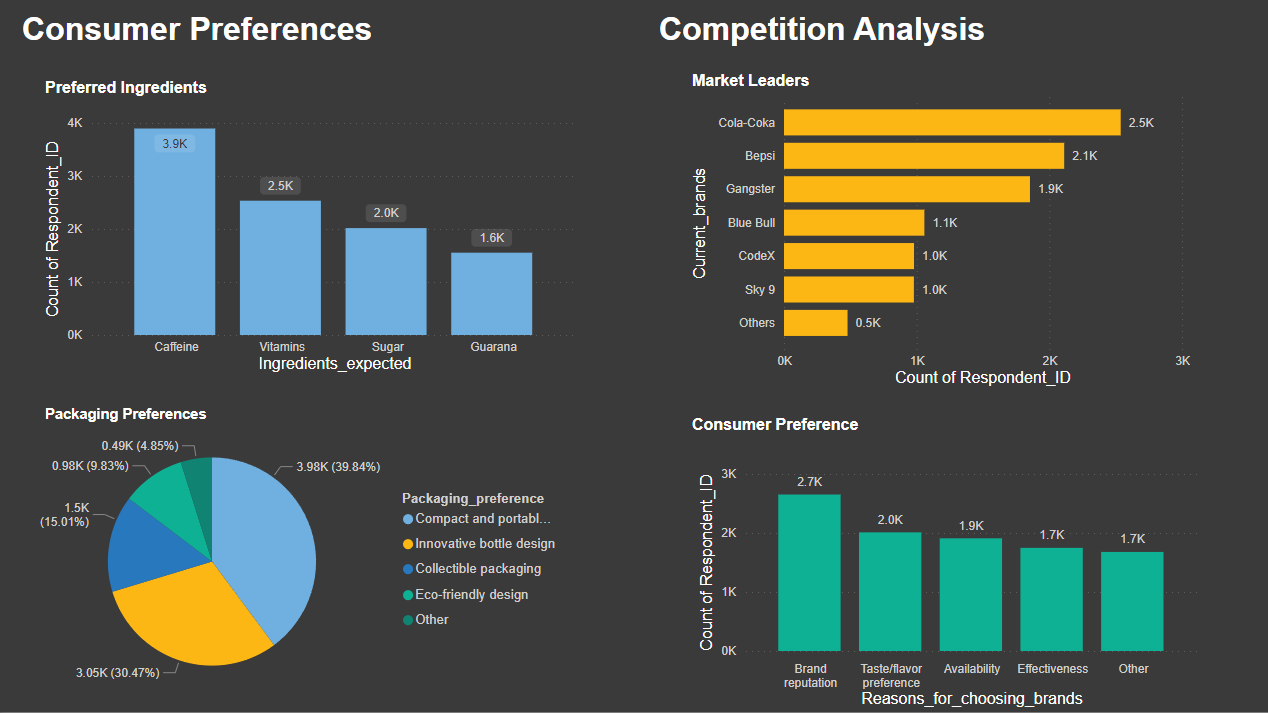

The page's visual inventory and layout, read from the dashboard file:
{"tool":"powerbi","page":{"name":"Consumer & Competition Analysis ","canvas":[1280,720],"ordinal":1},"visuals":[{"type":"columnChart","fields":{"Y":["CountNonNull(fact_survey_responses.Respondent_ID)"],"Category":["fact_survey_responses.Ingredients_expected"]},"box":[44,117,543,268],"z":0},{"type":"pieChart","fields":{"Y":["CountNonNull(fact_survey_responses.Respondent_ID)"],"Category":["fact_survey_responses.Packaging_preference"]},"box":[21,419,554,301],"z":1000},{"type":"textbox","box":[21,14,509,50],"z":2000},{"type":"barChart","fields":{"Y":["CountNonNull(fact_survey_responses.Respondent_ID)"],"Category":["fact_survey_responses.Current_brands"]},"box":[690.6,91.4,508.7,307.4],"z":3000},{"type":"columnChart","fields":{"Y":["CountNonNull(fact_survey_responses.Respondent_ID)"],"Category":["fact_survey_responses.Reasons_for_choosing_brands"]},"box":[698,468,509,252],"z":4000},{"type":"textbox","box":[658,14,574,50],"z":5000},{"type":"textbox","box":[691,75,300,32],"z":6000},{"type":"textbox","box":[691,419,300,40],"z":7000},{"type":"textbox","box":[44,82,300,35],"z":8000},{"type":"textbox","box":[44,409,300,30],"z":9000}]}

Visuals, with their boxes in screenshot pixels (x1, y1, x2, y2), scaled from the page's 1280x720 canvas onto the 1268x713 screenshot:
columnChart - CountNonNull(fact_survey_responses.Respondent_ID) x fact_survey_responses.Ingredients_expected: locate(44, 116, 581, 381)
pieChart - CountNonNull(fact_survey_responses.Respondent_ID) x fact_survey_responses.Packaging_preference: locate(21, 415, 570, 712)
textbox: locate(21, 14, 525, 63)
barChart - CountNonNull(fact_survey_responses.Respondent_ID) x fact_survey_responses.Current_brands: locate(684, 91, 1188, 395)
columnChart - CountNonNull(fact_survey_responses.Respondent_ID) x fact_survey_responses.Reasons_for_choosing_brands: locate(691, 463, 1196, 712)
textbox: locate(652, 14, 1220, 63)
textbox: locate(685, 74, 982, 106)
textbox: locate(685, 415, 982, 455)
textbox: locate(44, 81, 341, 116)
textbox: locate(44, 405, 341, 435)
